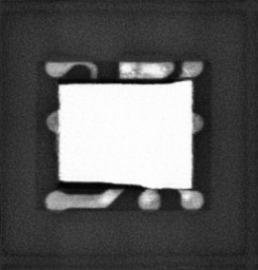DIE_BROKEN: (56, 75, 188, 86), (56, 179, 149, 190)
